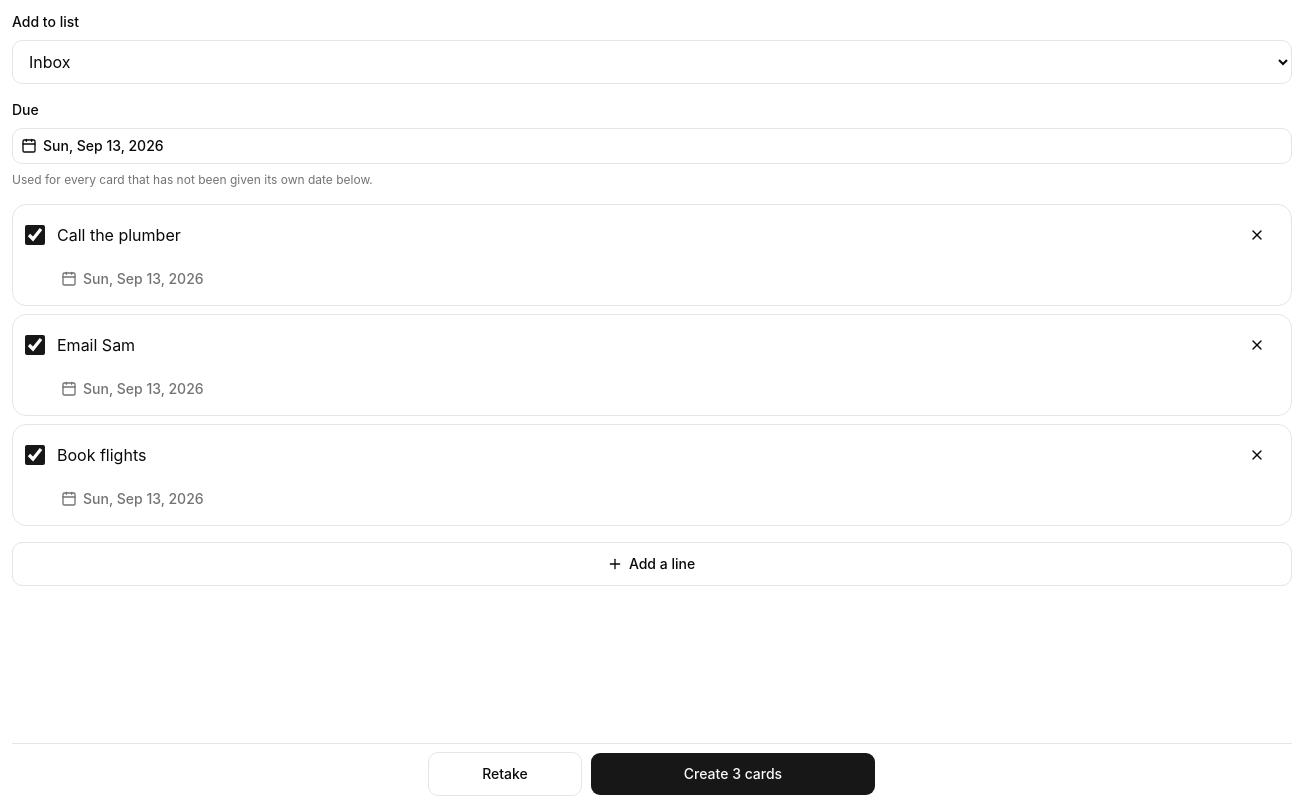
Test: CardPreviewList › removes a line entirely
The image size is (1304, 812).
Click the button named "Remove \"Email Sam\"" at (1257, 345), box [1235, 323, 1279, 367]
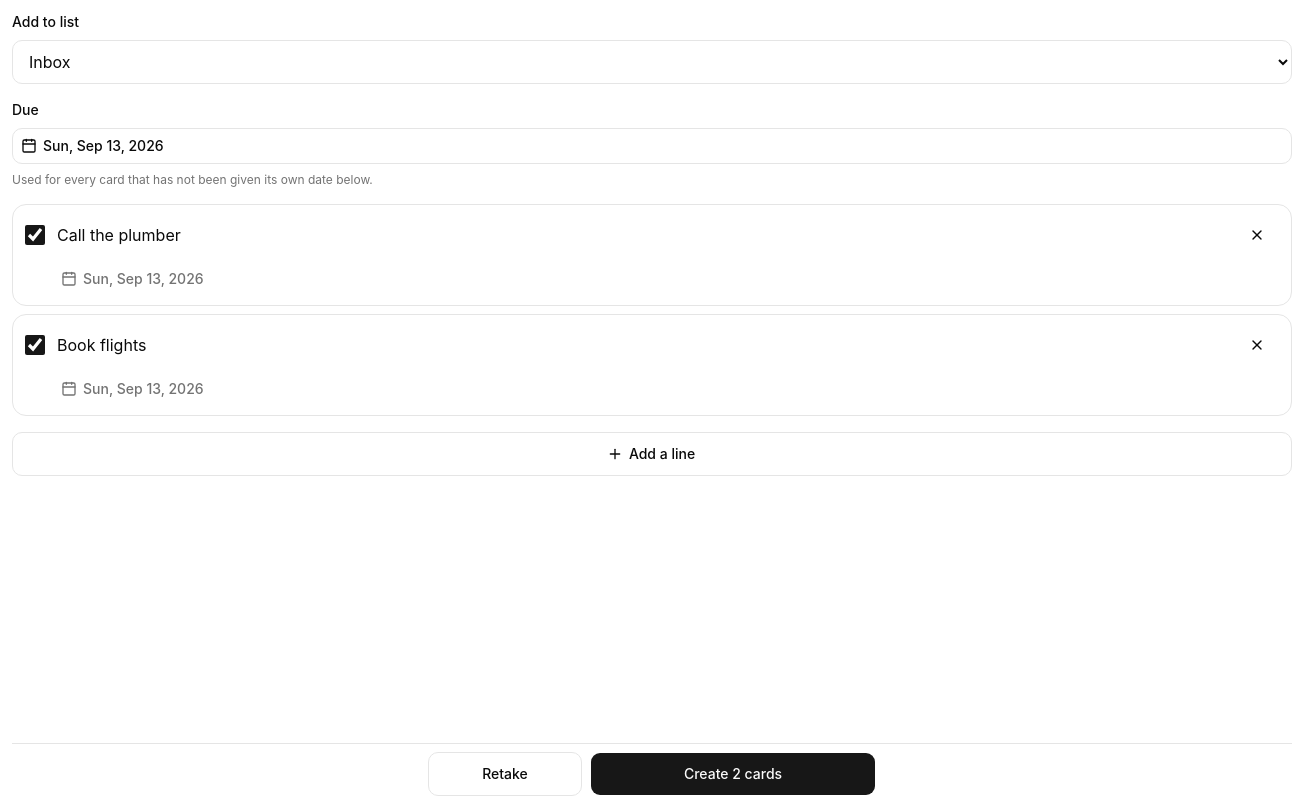
Expected: the number of fields named "Task 1" is 2, [53, 217, 1227, 253]; [53, 327, 1227, 363]
Expected: the button "Create 2 cards" is shown, [590, 752, 876, 796]
